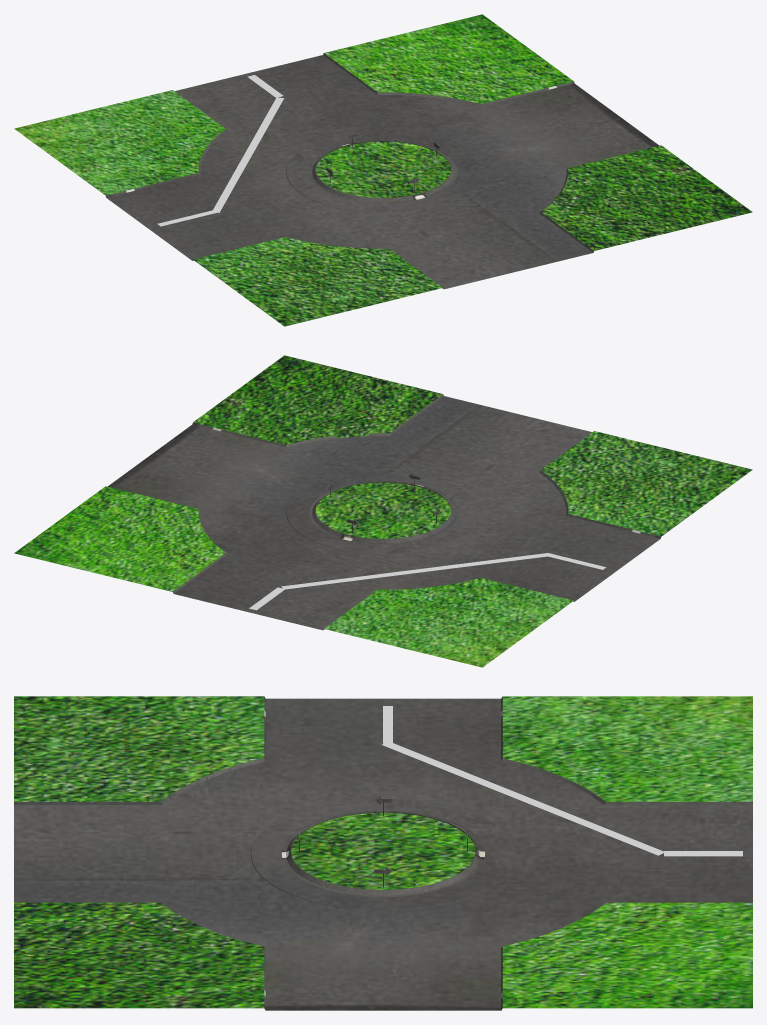
The model's file is Kreisverkehr.dae.
3 renders of one model, top to bottom at view 1: azimuth 30°, elevation 25°; view 2: azimuth 150°, elevation 25°; view 3: azimuth 270°, elevation 25°, orthographic. The views are drawn at different scales.
Visible parts, largest first — view 1: Circle, Plane; view 2: Circle, Plane; view 3: Circle, Plane.
Boxes of the visible parts, <box> form: Circle: <box>14,14,752,326</box>; Plane: <box>213,97,284,212</box>; Circle: <box>14,355,752,667</box>; Plane: <box>281,553,549,589</box>; Circle: <box>14,696,752,1010</box>; Plane: <box>382,743,663,855</box>.
Size of the model in its own units: 40 by 40 by 1.72.
5 materials, 2 textured.
